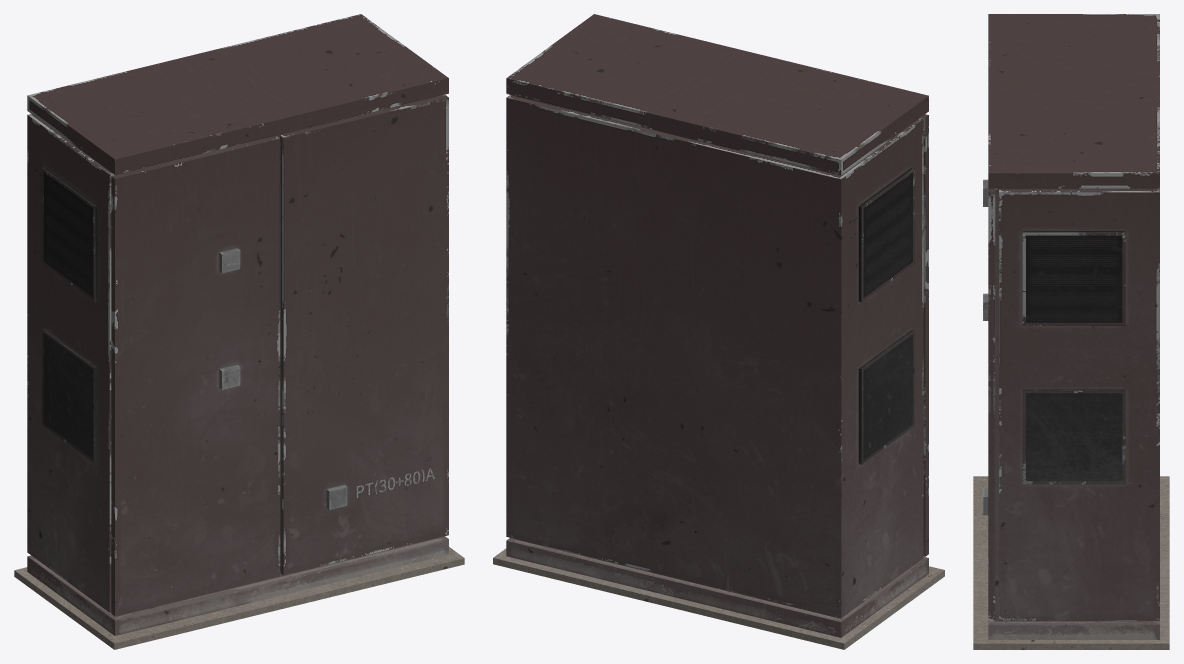
The model's file is jctGrdEquipA.fbx.
3 renders of one model, left to right at view 1: azimuth 30°, elevation 25°; view 2: azimuth 150°, elevation 25°; view 3: azimuth 270°, elevation 25°, orthographic. The views are drawn at different scales.
Visible parts, largest first — view 1: jctGrdEquipA; view 2: jctGrdEquipA; view 3: jctGrdEquipA.
Boxes of the visible parts, bbox=[...] form: jctGrdEquipA: bbox=[14, 14, 464, 649]; jctGrdEquipA: bbox=[493, 14, 944, 649]; jctGrdEquipA: bbox=[973, 14, 1169, 649].
Bounding box in the file's own units: 115 × 152 × 57.17.
